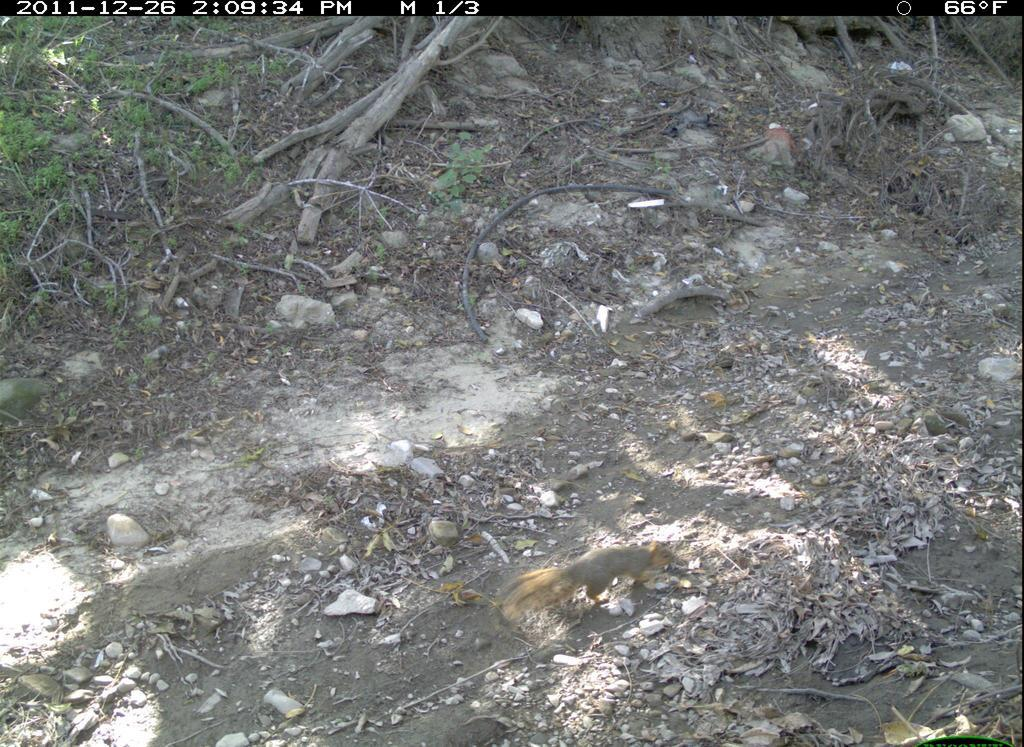squirrel: (475, 536, 703, 616)
